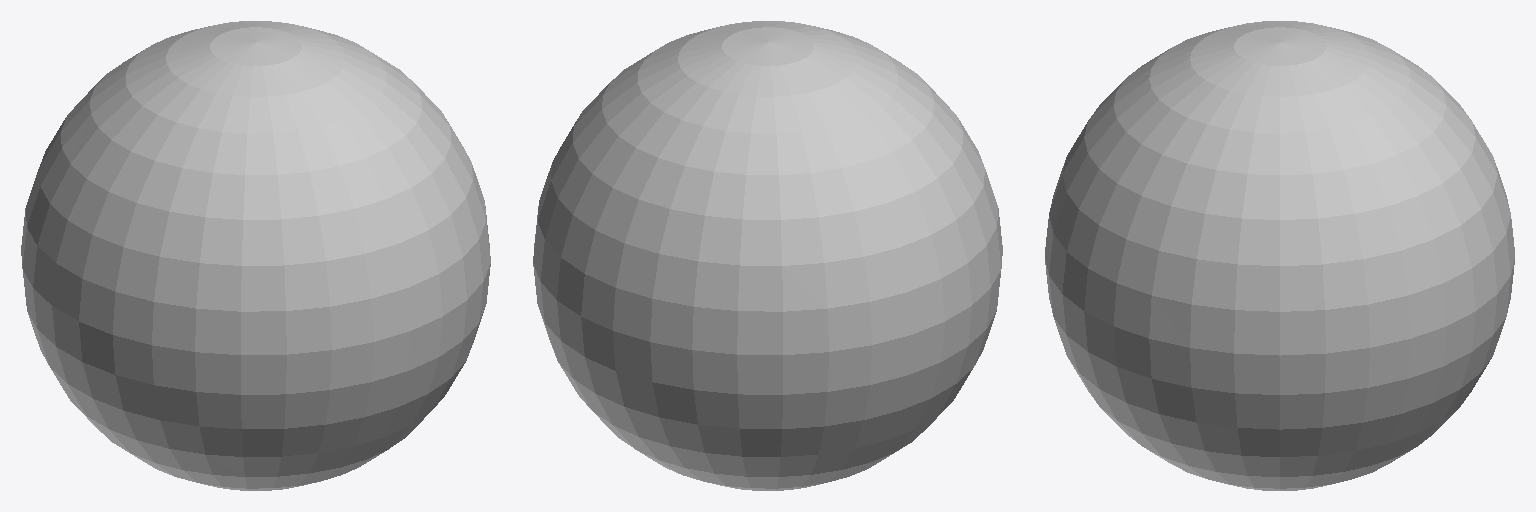
File: Electrode.obj
The picture shows the model from 3 angles: view 1: azimuth 30°, elevation 25°; view 2: azimuth 150°, elevation 25°; view 3: azimuth 270°, elevation 25°; orthographic projection.
Visible parts, largest first — view 1: Electrode; view 2: Electrode; view 3: Electrode.
Part boxes in pixels (x1,y1,x2,y2): Electrode: (21,21,490,490); Electrode: (533,21,1002,490); Electrode: (1045,21,1514,490).
Size of the model in its own units: 8.35 by 8.35 by 8.35.